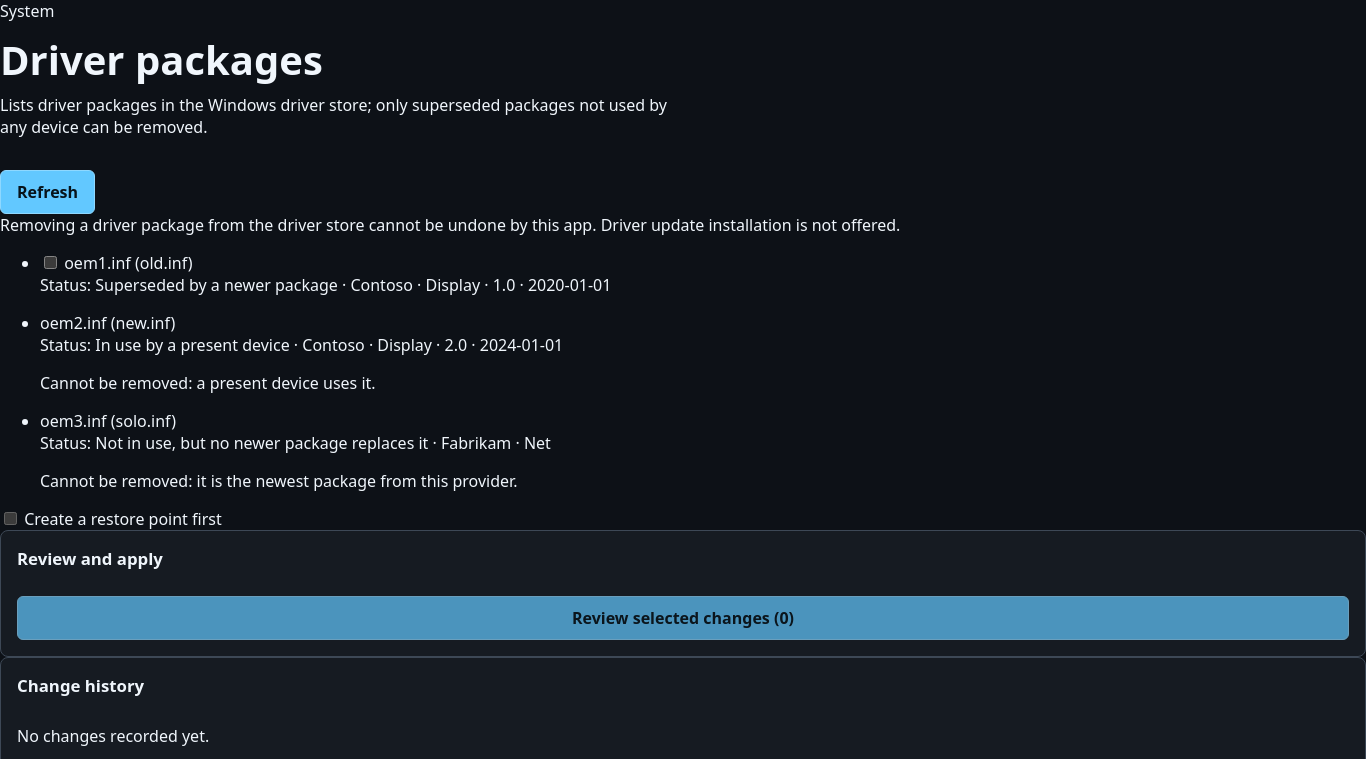
it: sends restore point then delete, and does not confirm or execute before Windows confirmation
Click the checkbox labelled "oem1.inf (old.inf)": {"x": 50, "y": 262} [44,256,57,269]
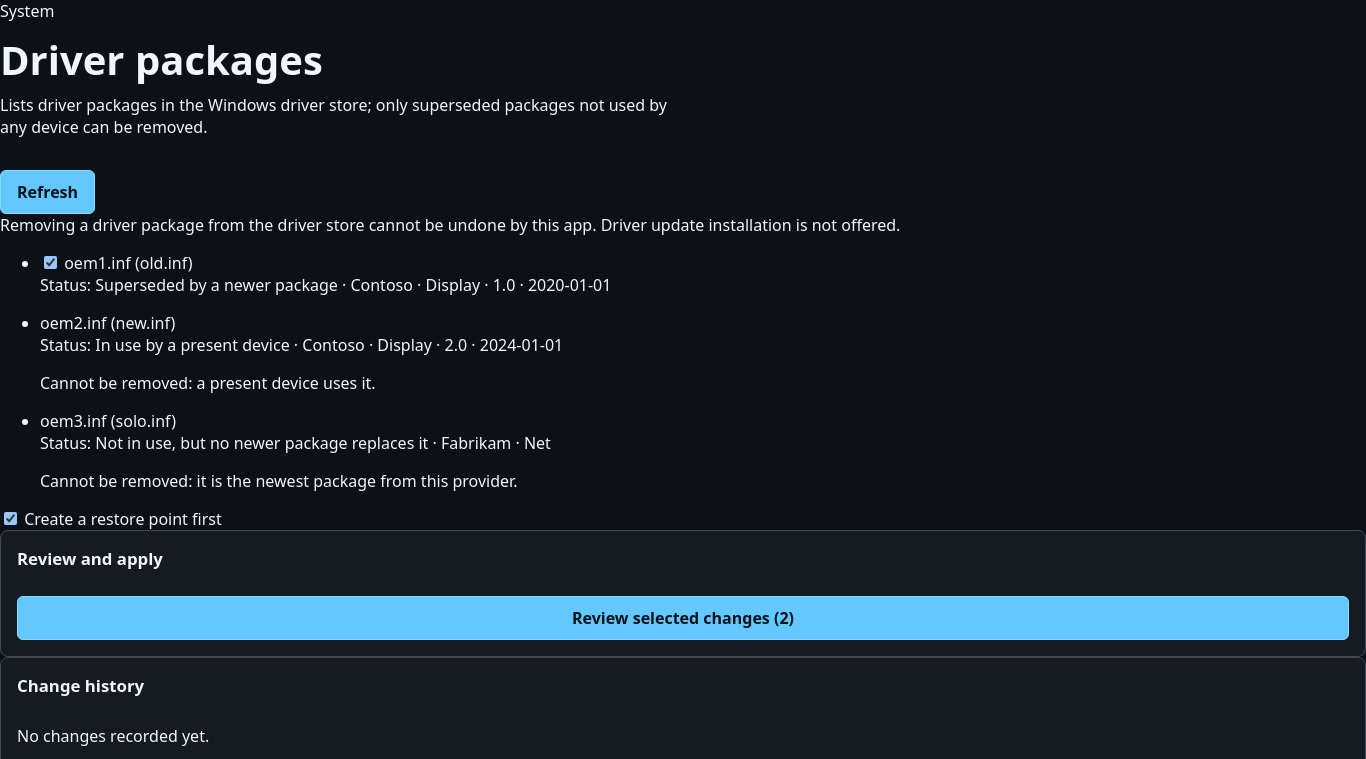
Check: the checkbox labelled "Create a restore point first" is checked, box [4,512,17,525]
Click the button "Review selected changes (2)": {"x": 683, "y": 618} [17,596,1349,640]
(page scrolled)
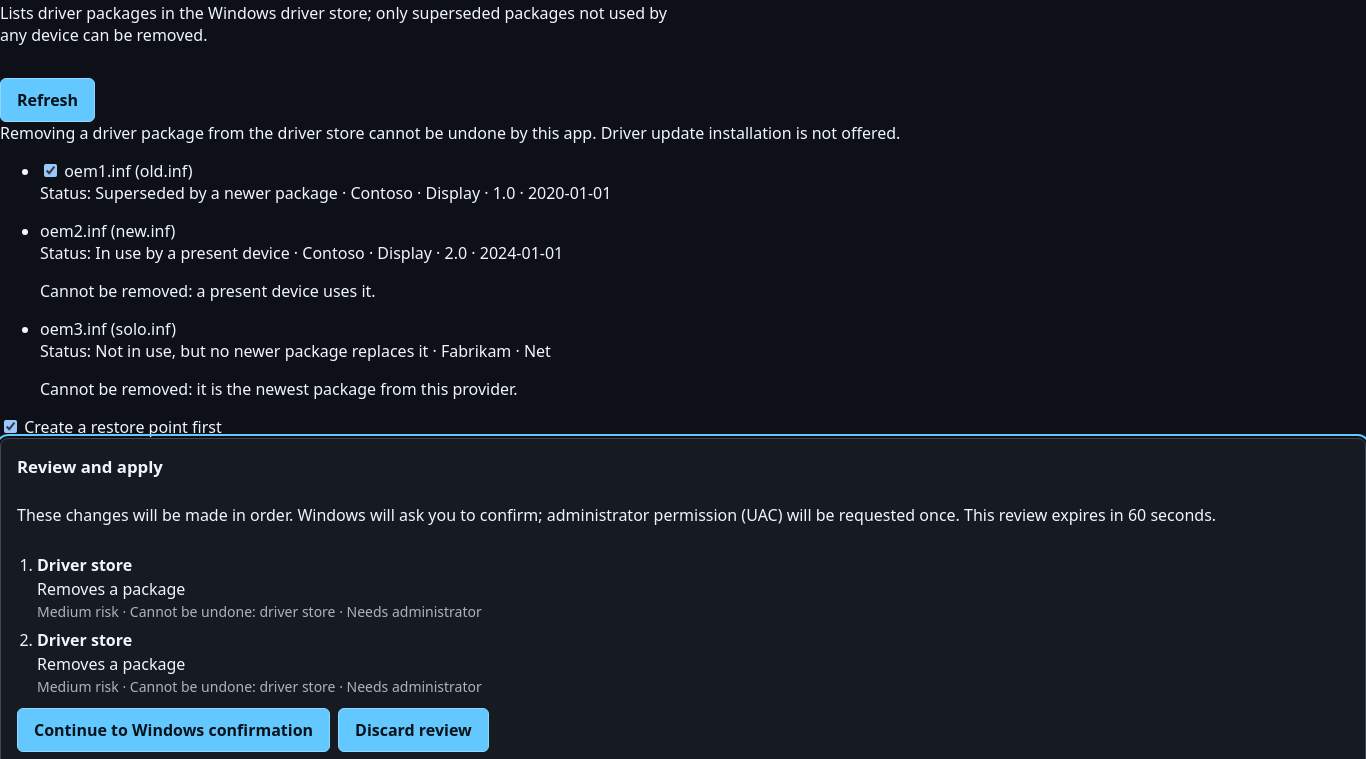
Check: the button "Continue to Windows confirmation" is shown, box [17,708,330,752]
